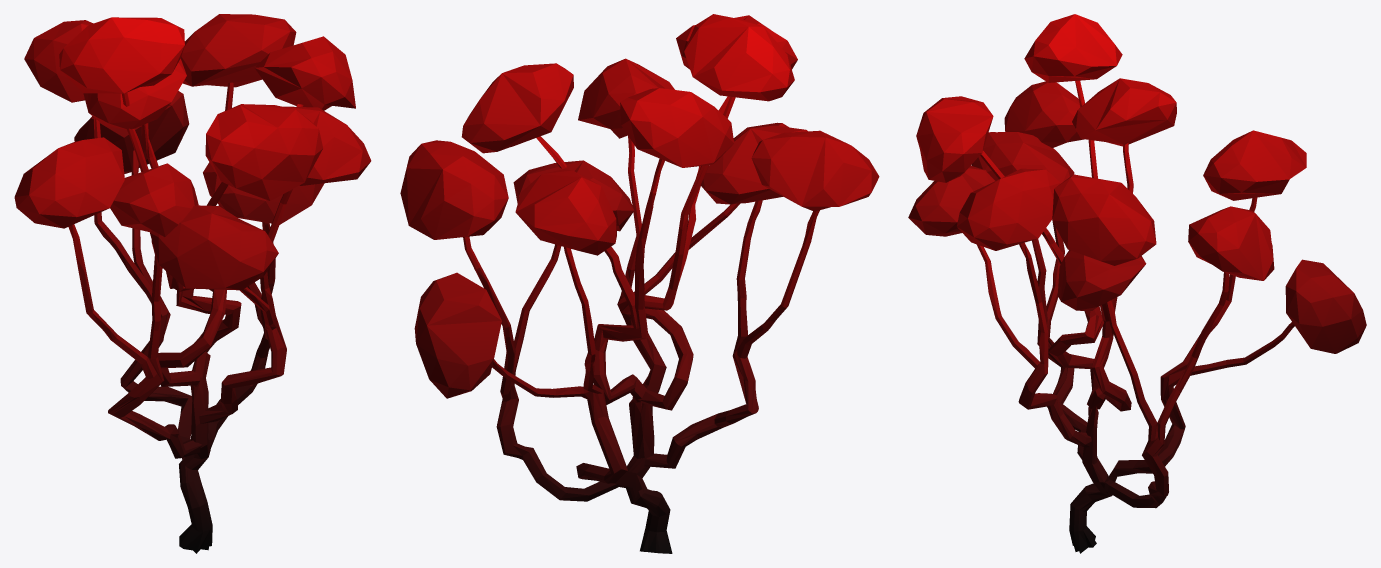
Rendered from TreeHiatus07.fbx.
The picture shows the model from 3 angles, left to right: view 1: azimuth 30°, elevation 25°; view 2: azimuth 150°, elevation 25°; view 3: azimuth 270°, elevation 25°; orthographic projection. The views are drawn at different scales.
Parts seen in each view (by area): view 1: TreeHiatus07_LOD0; view 2: TreeHiatus07_LOD0; view 3: TreeHiatus07_LOD0.
Boxes of the visible parts, x1=… form: TreeHiatus07_LOD0: x1=14, y1=14, x2=371, y2=553; TreeHiatus07_LOD0: x1=400, y1=14, x2=879, y2=553; TreeHiatus07_LOD0: x1=908, y1=14, x2=1366, y2=553.
Size of what is drawn, in the model's own units: 1501 by 2130 by 1786.
